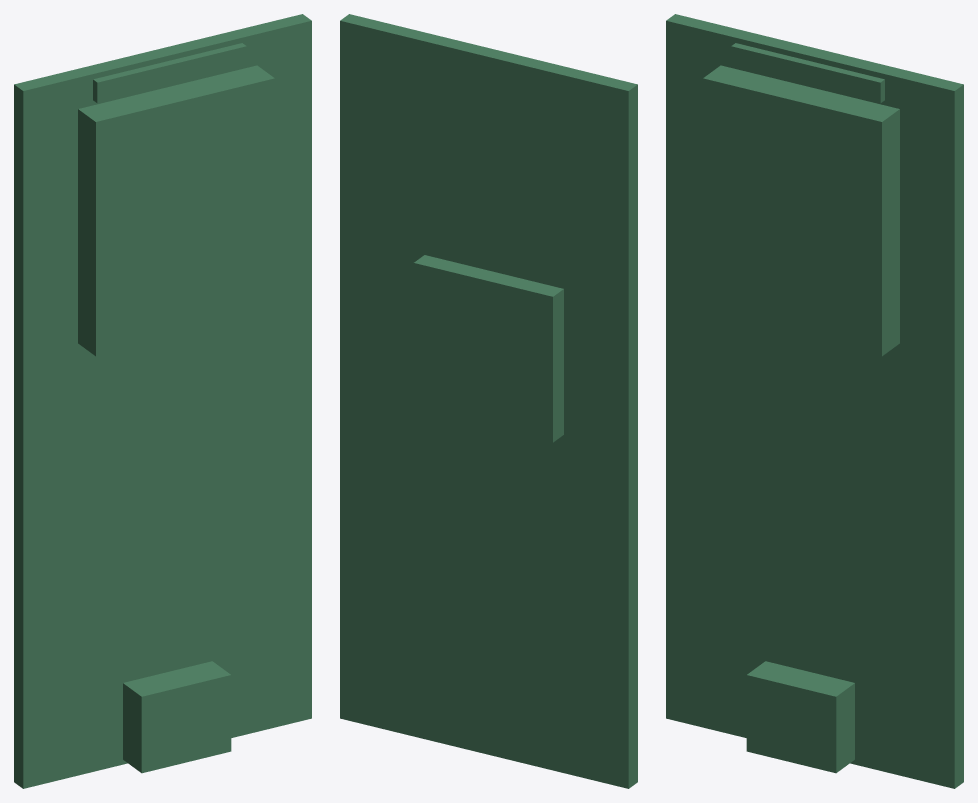
Rendered from ESP32-S3_CAM_Board_v3_4.glb.
3 views of the same model, side by side, from view 1: azimuth 30°, elevation 25°; view 2: azimuth 150°, elevation 25°; view 3: azimuth 330°, elevation 25° (orthographic).
Parts seen in each view (by area): view 1: ESP32-S3_CAM_Board_v3_4; view 2: ESP32-S3_CAM_Board_v3_4; view 3: ESP32-S3_CAM_Board_v3_4.
Part boxes in pixels (bbox=[...]): ESP32-S3_CAM_Board_v3_4: bbox=[14, 14, 311, 788]; ESP32-S3_CAM_Board_v3_4: bbox=[340, 14, 637, 788]; ESP32-S3_CAM_Board_v3_4: bbox=[666, 14, 963, 788].
Bounding box in the file's own units: 29 × 67 × 6.8.
